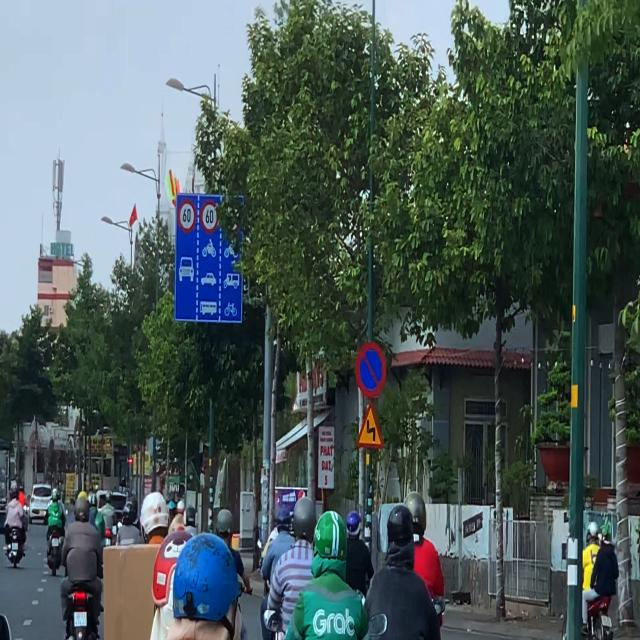Cam do: (355, 342, 386, 399)
Nguy hiem: (356, 404, 384, 448)
Toc do toi da: (200, 200, 219, 234), (178, 200, 196, 232)
